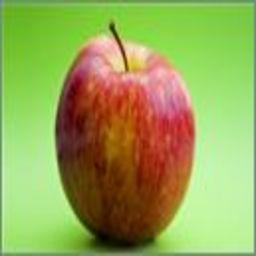apple: (53, 30, 197, 247)
